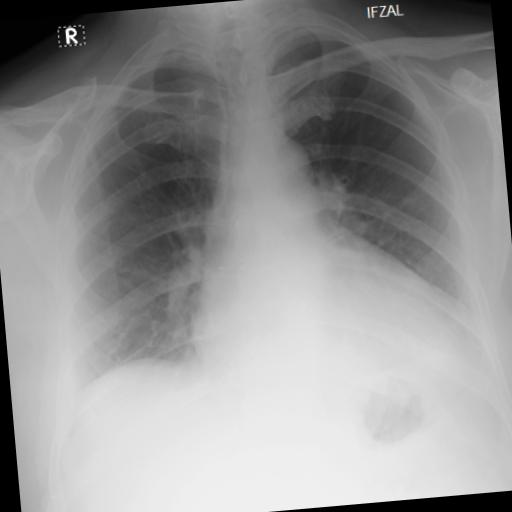kardiomegali: (5, 0, 512, 451)
